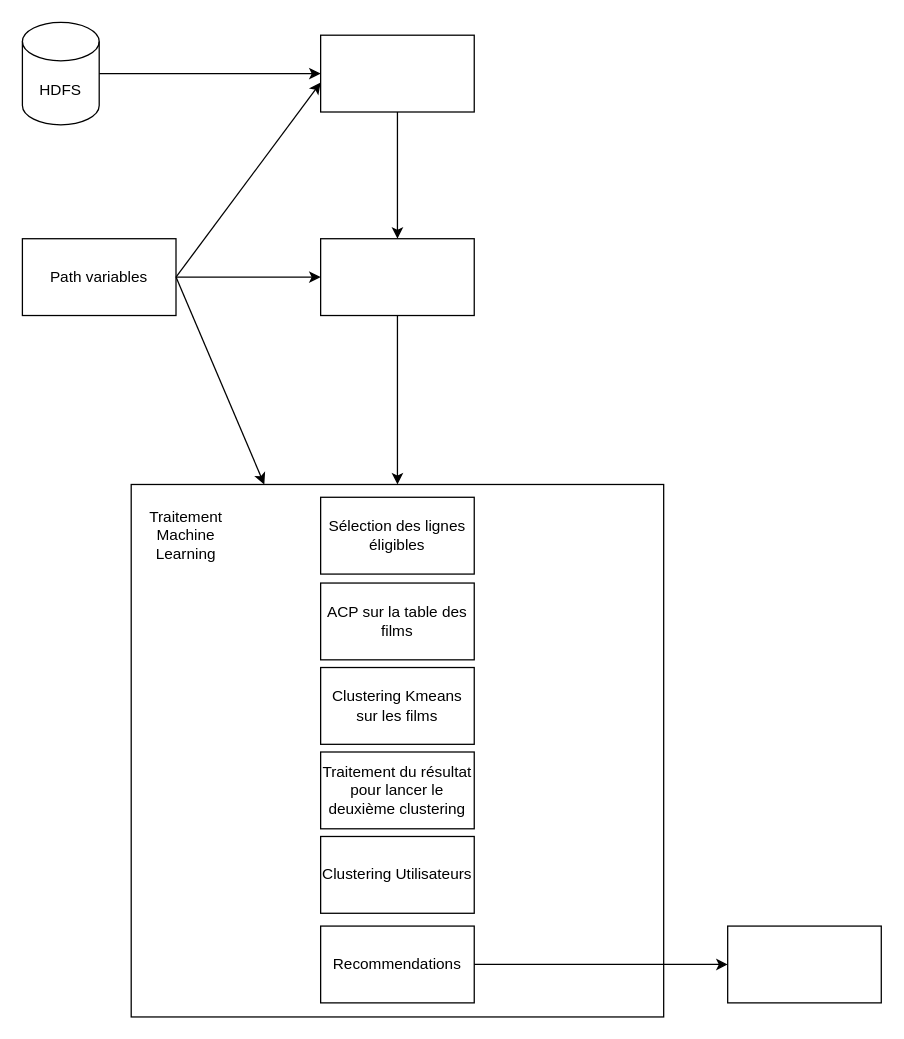
The diagram is 904 pixels wide and 1039 high, and some of its shapes have lost their labels. The shapes that lost their labels are listed below. From the top down, each one's centre as x and y in pixels, then its label:
the point at 396,73: Donnée brute
the point at 396,276: Nettoyage
the point at 803,964: Sortie CSV d'une liste de recommendations
